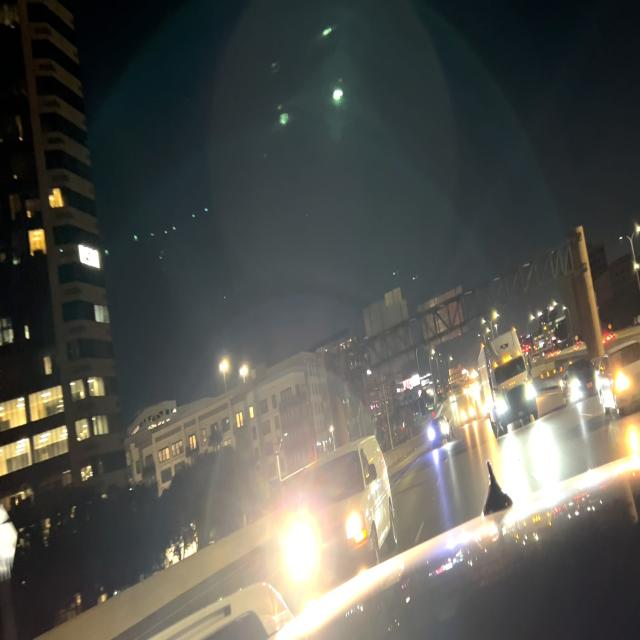back-of-sign: (361, 291, 416, 384), (421, 283, 467, 352)
